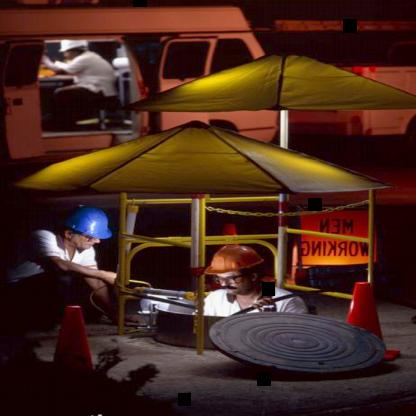helmet: (202, 242, 275, 296), (52, 206, 115, 254), (52, 34, 89, 64)
